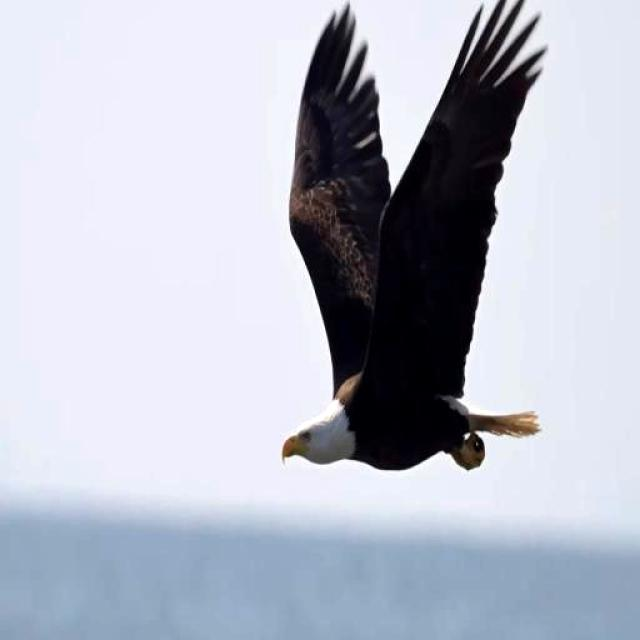airplane: (260, 0, 545, 530)
